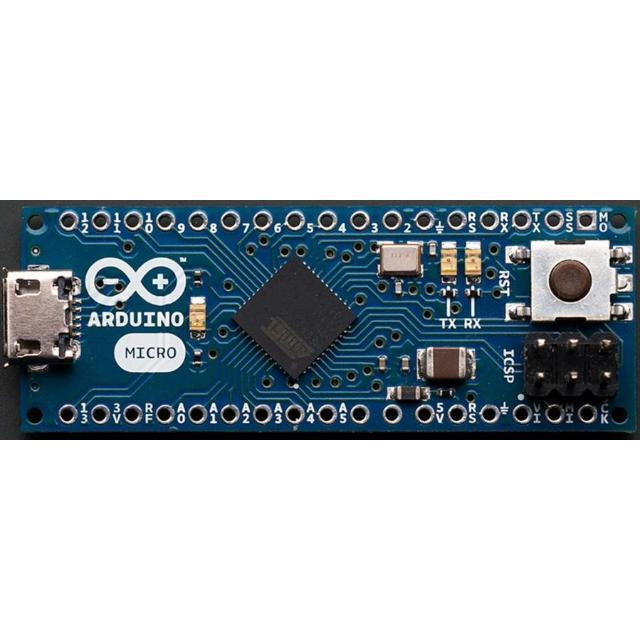Arduino-Micro: (1, 202, 640, 439)
